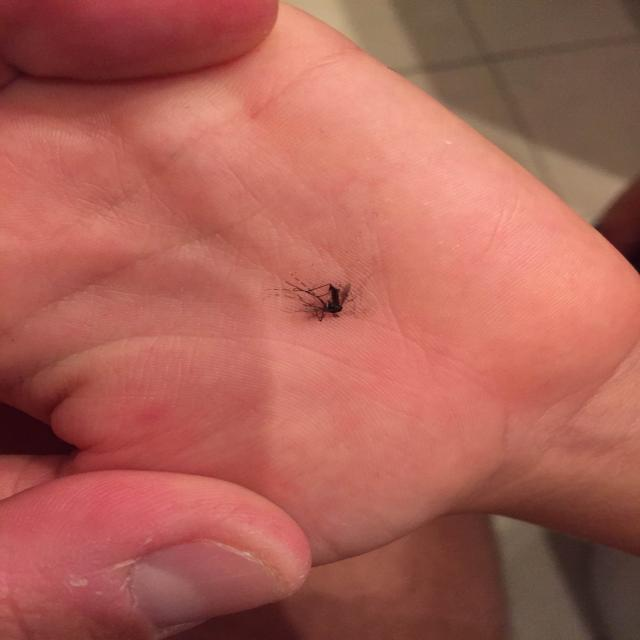albopictus: (270, 270, 356, 324)
